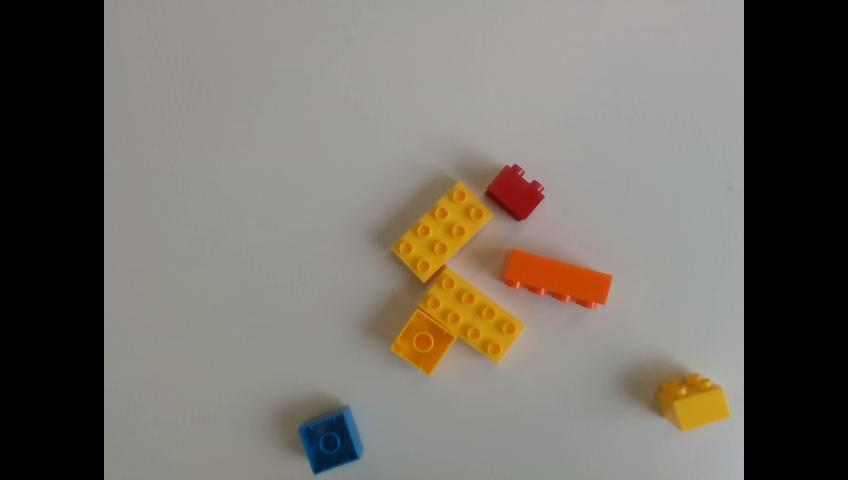2x2_blue: (297, 405, 365, 475)
2x2_red: (486, 163, 546, 222)
2x2_yellow: (390, 309, 459, 379), (659, 375, 734, 431)
4x2_orange: (501, 249, 612, 310)
4x2_yellow: (389, 182, 496, 283), (419, 268, 527, 367)
